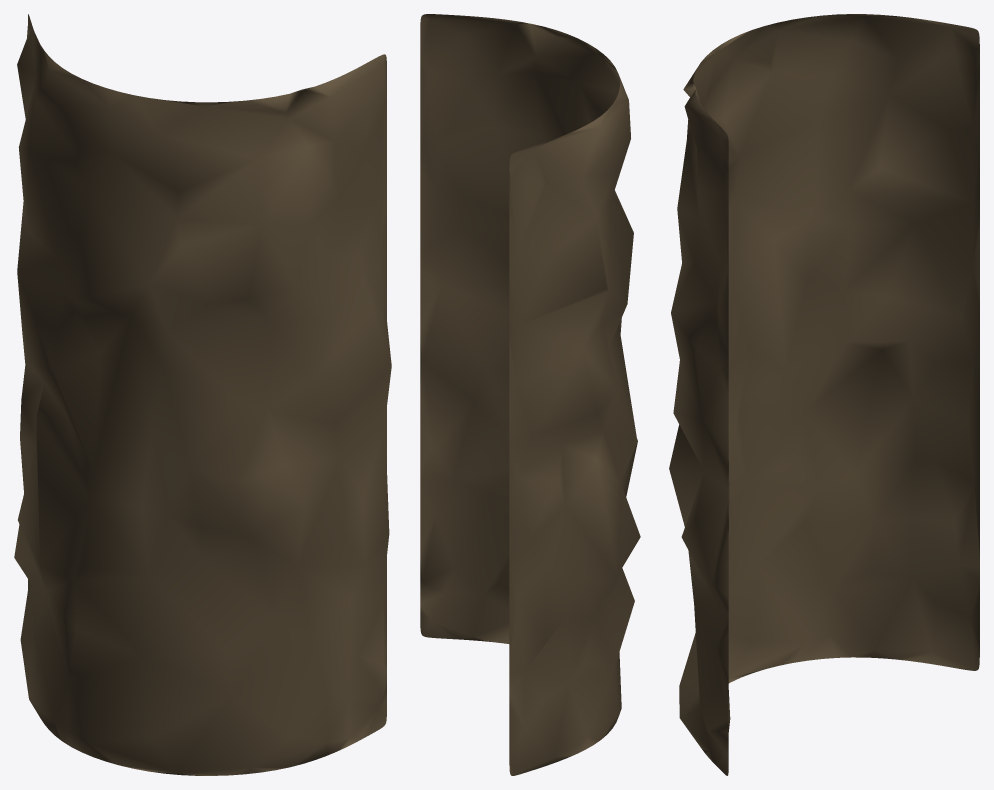
File: BlocksRock_02.fbx
3 renders of one model, left to right at view 1: azimuth 30°, elevation 25°; view 2: azimuth 150°, elevation 25°; view 3: azimuth 270°, elevation 25°, orthographic. The views are drawn at different scales.
Visible parts, largest first — view 1: BlockRock_02_Rise; view 2: BlockRock_02_Rise; view 3: BlockRock_02_Rise.
Boxes of the visible parts, bbox=[...] form: BlockRock_02_Rise: bbox=[14, 14, 391, 775]; BlockRock_02_Rise: bbox=[420, 14, 640, 775]; BlockRock_02_Rise: bbox=[669, 14, 979, 775].
Size of the model in its own units: 871 by 2000 by 876.
